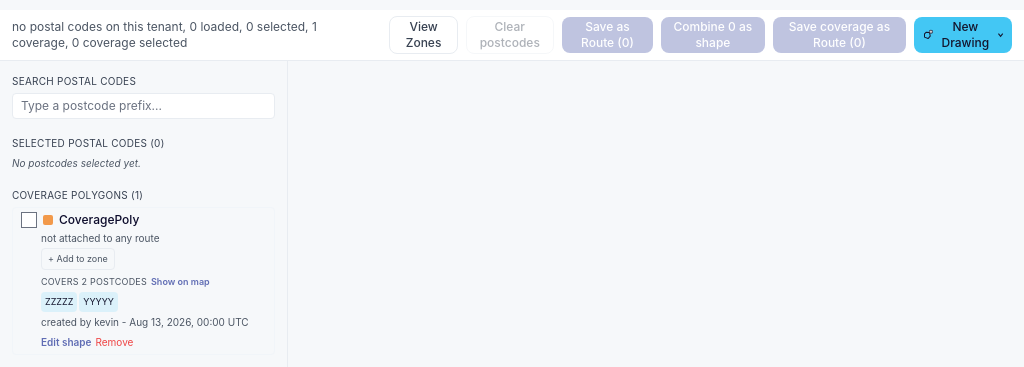
Scenario: PolygonBuilder - coverage polygons + viewport › Show on map on a polygon with only unresolvable zips surfaces error
(page scrolled)
Expected: the button "CoveragePoly" is shown, [59,212,266,228]
What coordinates should you click on to do the following:
click the button "Show on map"
I would click on:
 (180, 282)
Its box is [151,274,210,290].
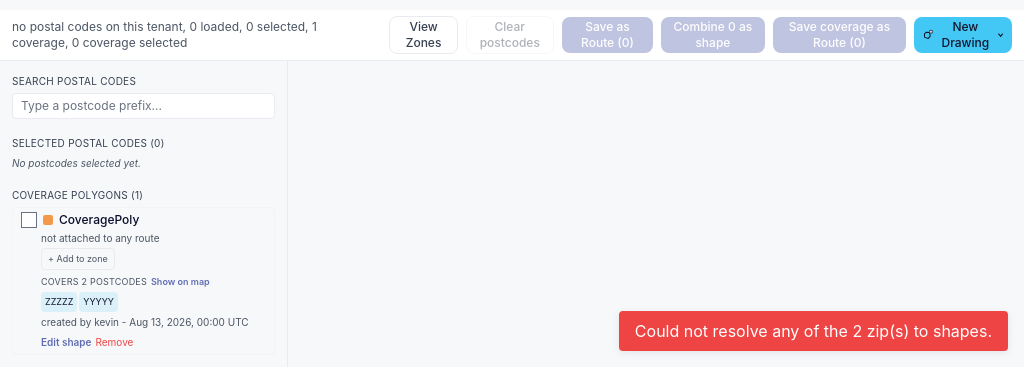
Expected: the text "Could not resolve" is shown, [635,321,992,341]
